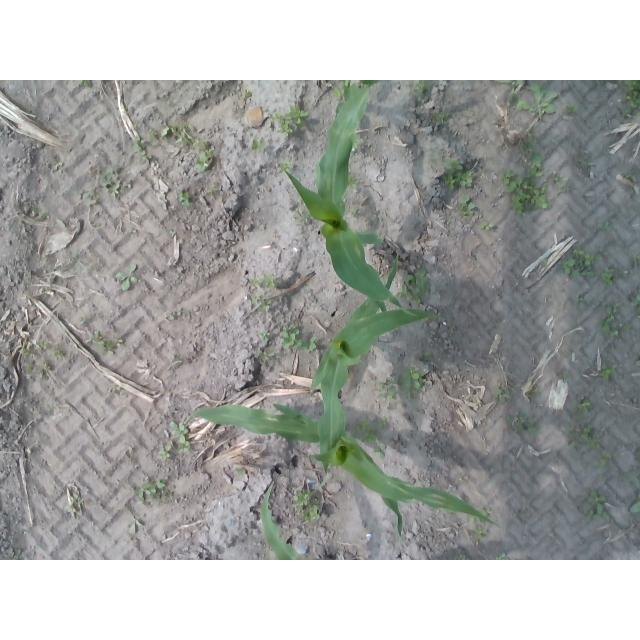Maize: (186, 400, 507, 541), (308, 254, 436, 501), (287, 80, 417, 320), (260, 480, 333, 560)
Weeds: (501, 154, 549, 215), (515, 83, 557, 121), (395, 265, 429, 308), (561, 248, 604, 281), (273, 104, 308, 137), (440, 156, 473, 190), (580, 490, 612, 523), (280, 324, 316, 353), (566, 422, 603, 450), (100, 167, 132, 198), (294, 489, 322, 523), (89, 329, 124, 356), (599, 298, 622, 338), (401, 365, 428, 399), (133, 477, 167, 503), (617, 80, 640, 118), (508, 410, 541, 436), (193, 139, 216, 174), (161, 123, 195, 146), (352, 416, 378, 444), (170, 420, 191, 453), (496, 80, 524, 104), (549, 168, 572, 196), (114, 264, 138, 290), (457, 194, 480, 221), (69, 188, 99, 208), (377, 376, 398, 400), (134, 136, 150, 165), (519, 131, 539, 154), (249, 273, 279, 288), (574, 400, 595, 421), (250, 291, 270, 311), (470, 505, 492, 523), (63, 494, 82, 514), (293, 206, 311, 226), (493, 386, 513, 404), (619, 469, 640, 486), (599, 362, 618, 380), (600, 265, 616, 285), (179, 190, 194, 210), (411, 80, 429, 96), (426, 146, 439, 167), (70, 254, 86, 271), (529, 385, 544, 403), (597, 451, 611, 470), (251, 137, 267, 153), (472, 525, 489, 540), (373, 444, 387, 461), (30, 208, 48, 221), (632, 288, 640, 317), (564, 101, 580, 115), (205, 184, 222, 197), (578, 156, 595, 169), (158, 445, 172, 460), (130, 517, 143, 533), (431, 111, 449, 122), (331, 85, 345, 99), (278, 159, 292, 173), (477, 221, 494, 232), (40, 342, 57, 353), (601, 219, 614, 233), (629, 500, 640, 516), (345, 172, 355, 189), (258, 329, 271, 342), (53, 348, 68, 359), (259, 351, 274, 361), (351, 135, 361, 150), (379, 415, 389, 429), (624, 172, 637, 182), (560, 369, 571, 380), (495, 552, 509, 560), (421, 351, 432, 361), (38, 364, 50, 373), (150, 128, 159, 140), (621, 324, 633, 333), (234, 468, 246, 477), (78, 81, 93, 88), (81, 316, 94, 324), (563, 348, 573, 358), (52, 161, 62, 171), (243, 90, 254, 99), (631, 252, 640, 263), (350, 207, 359, 217), (573, 298, 582, 307), (20, 348, 29, 356), (540, 258, 548, 267), (456, 554, 468, 560), (450, 326, 456, 333), (170, 230, 177, 234)
